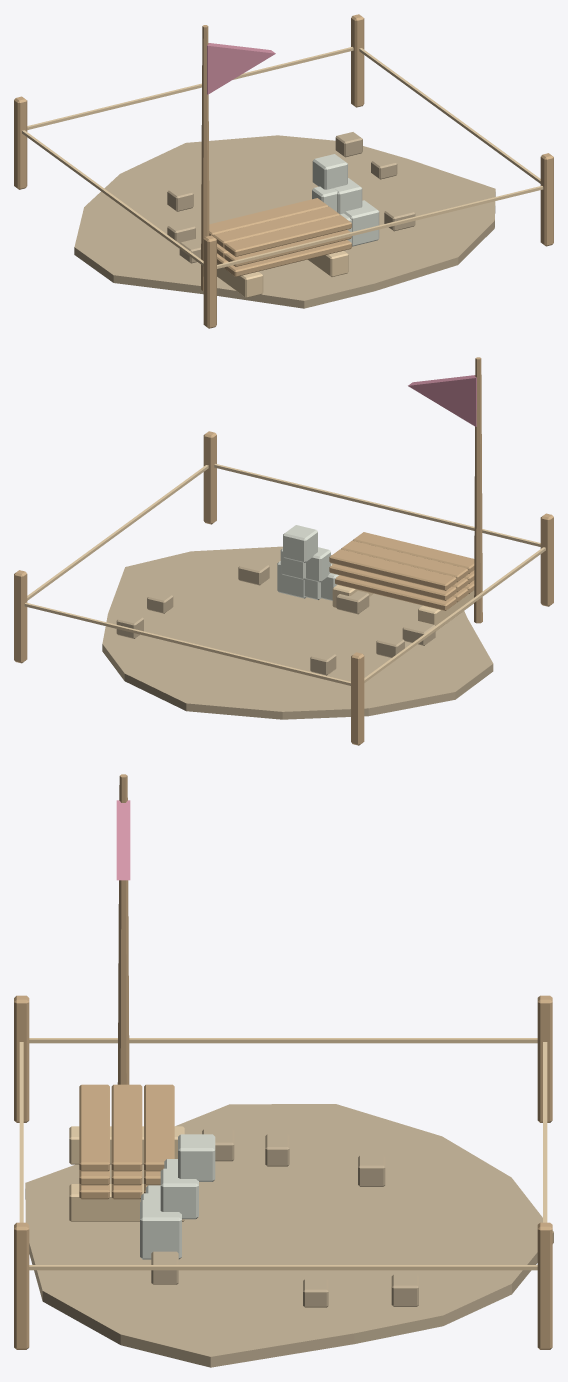
The model's file is world_construction_site_0.fbx.
3 views of the same model, one above another, from view 1: azimuth 30°, elevation 25°; view 2: azimuth 150°, elevation 25°; view 3: azimuth 270°, elevation 25° (orthographic). The views are drawn at different scales.
Parts seen in each view (by area): view 1: world_construction_site_0_mesh; view 2: world_construction_site_0_mesh; view 3: world_construction_site_0_mesh.
Part boxes in pixels (x1=…): world_construction_site_0_mesh: x1=14, y1=14, x2=553, y2=328; world_construction_site_0_mesh: x1=14, y1=357, x2=553, y2=745; world_construction_site_0_mesh: x1=14, y1=774, x2=553, y2=1367.
Bounding box in the file's own units: 1.76 × 1.22 × 1.59.
